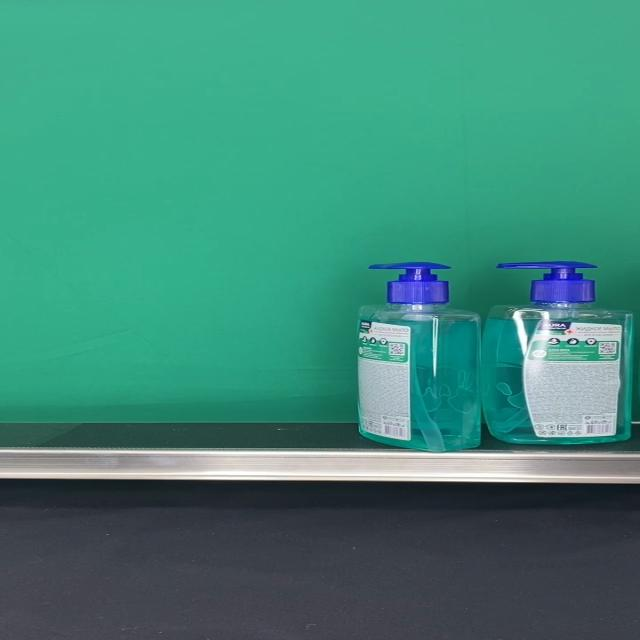Bottle: (482, 263, 634, 445), (355, 263, 481, 452)
Cap: (496, 262, 596, 304), (368, 263, 450, 304)
